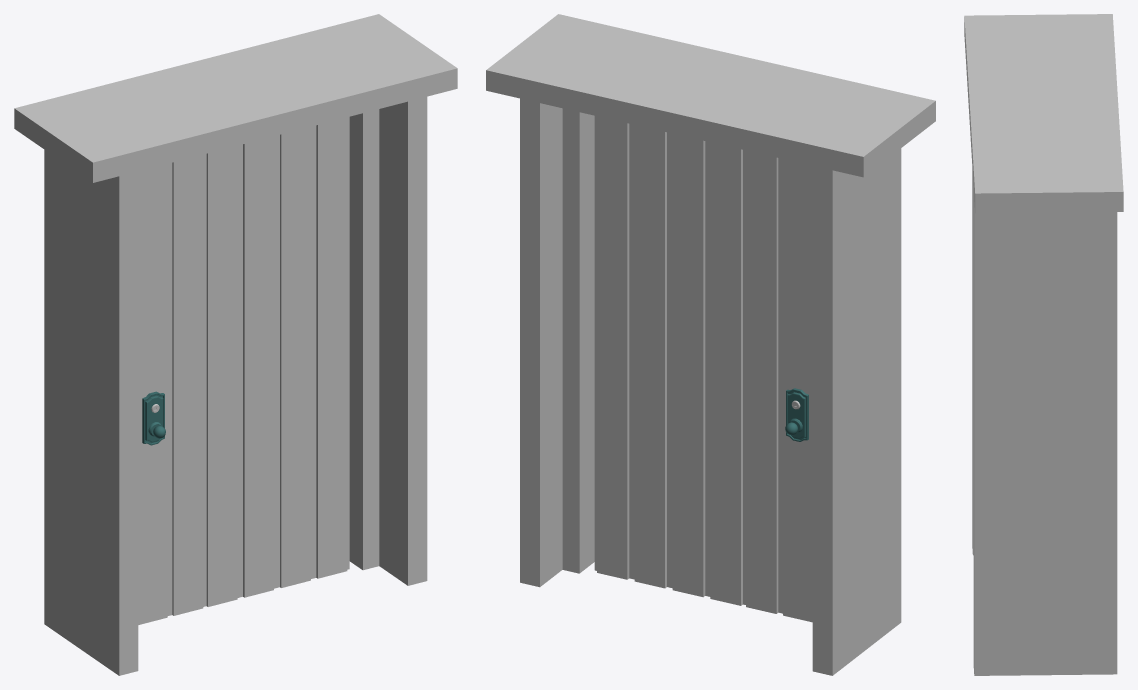
Rendered from Door.obj.
3 views of the same model, side by side, from view 1: azimuth 30°, elevation 25°; view 2: azimuth 150°, elevation 25°; view 3: azimuth 270°, elevation 25° (orthographic). The views are drawn at different scales.
Parts seen in each view (by area): view 1: Ignore11, Ignoreborders1, Ignoreborders2, Ignoreborders3, Ignore31, Maindoorpart1, Doorknobinside1; view 2: Ignore11, Ignoreborders1, Ignoreborders2, Ignoreborders3, Ignore31, Maindoorpart1, Doorknob1; view 3: Ignoreborders3, Ignoreborders2, Ignoreborders1.
Part boxes in pixels (x1,y1,x2,y2): Ignore11: (138, 117, 347, 624); Ignoreborders1: (44, 150, 138, 675); Ignoreborders2: (14, 14, 457, 182); Ignoreborders3: (379, 96, 427, 585); Ignore31: (349, 109, 379, 570); Maindoorpart1: (167, 116, 349, 615); Doorknobinside1: (142, 391, 165, 445); Ignore11: (597, 116, 812, 622); Ignoreborders1: (812, 148, 901, 675); Ignoreborders2: (486, 14, 935, 177); Ignoreborders3: (520, 98, 562, 587); Ignore31: (562, 108, 594, 573); Maindoorpart1: (594, 116, 782, 613); Doorknob1: (785, 388, 808, 441); Ignoreborders3: (973, 191, 1117, 675); Ignoreborders2: (964, 14, 1123, 213); Ignoreborders1: (972, 169, 973, 555).
Bounding box in the file's own units: 8.28 × 11.09 × 3.1.
